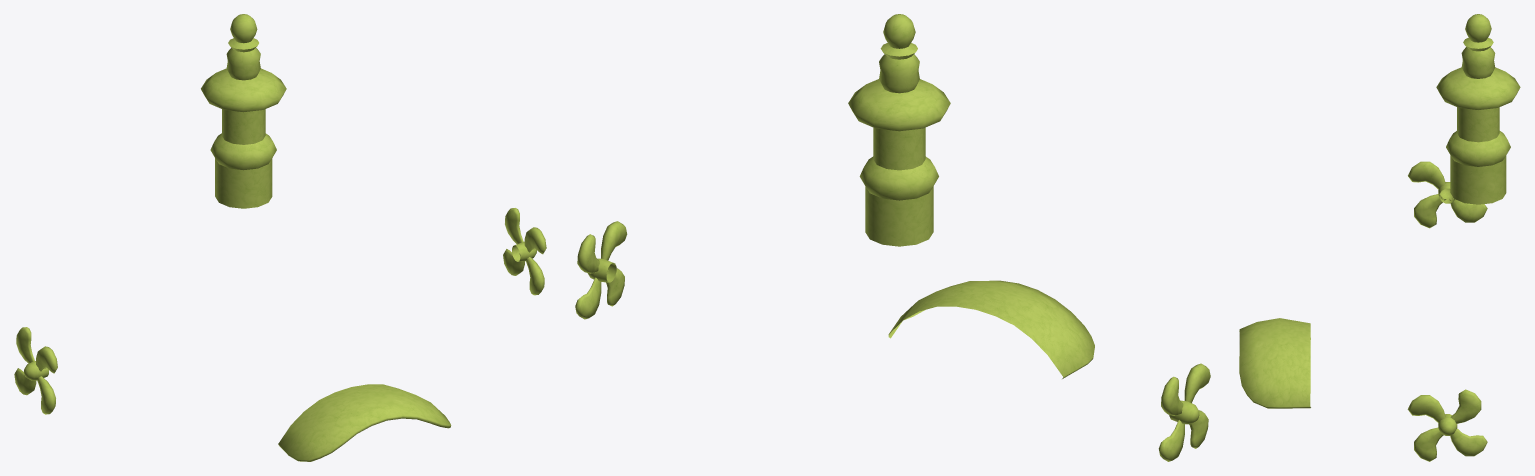
File: fbx_facility_building_06.FBX
3 views of the same model, side by side, from view 1: azimuth 30°, elevation 25°; view 2: azimuth 150°, elevation 25°; view 3: azimuth 270°, elevation 25° (orthographic). The views are drawn at different scales.
Parts seen in each view (by area): view 1: facility_building_06; view 2: facility_building_06; view 3: facility_building_06.
Part boxes in pixels (x1,y1,x2,y2): facility_building_06: (14, 14, 546, 461); facility_building_06: (575, 14, 1210, 461); facility_building_06: (1239, 14, 1520, 461).
Bounding box in the file's own units: 89.48 × 59.58 × 43.51.
